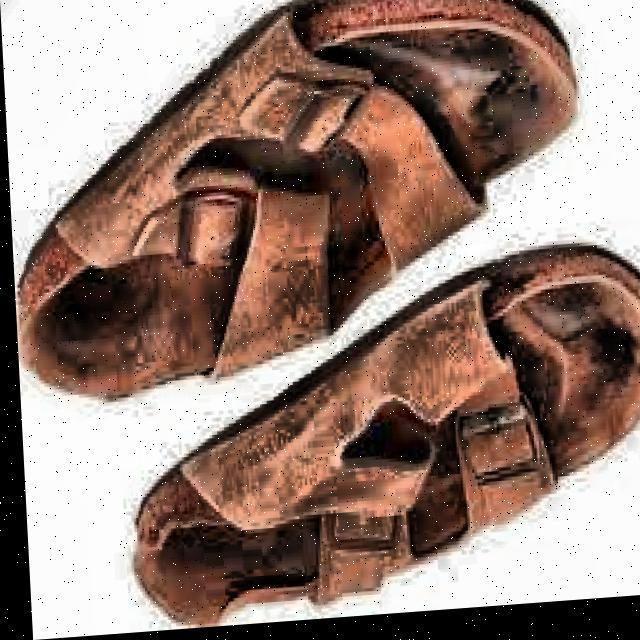shoes: (2, 0, 640, 634)
